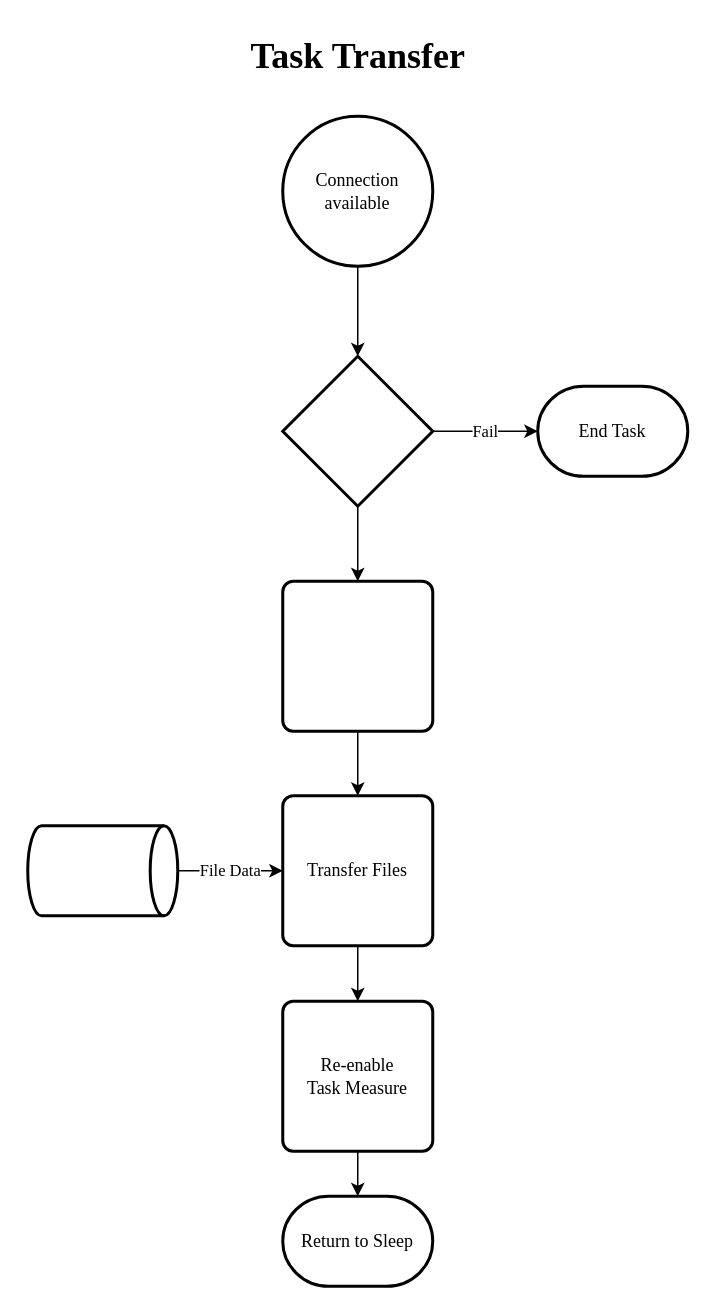
Some shapes in this 714 by 1313 pixel diagram are drawn without their labels. The centre of each missing label's shape, as x and y in pixels:
Disable Task Measure (Lock on Memory): point 357,655
SD Card File: point 102,870
Successful Connection?: point 357,430
